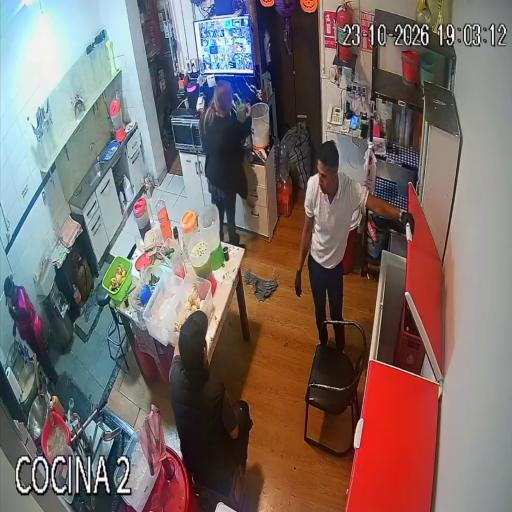Balde: (252, 102, 270, 149)
Envase Llajua: (52, 395, 64, 419)
Jarra1: (133, 197, 151, 240)
Jarra2: (181, 210, 197, 246)
Jarra3: (187, 231, 217, 294)
Jarra4: (198, 204, 223, 269)
JarraLicuadora: (236, 100, 247, 122)
Microondas: (171, 115, 204, 153)
Persona1: (170, 311, 253, 495)
Persona2: (200, 82, 253, 247)
Persona3: (294, 141, 414, 343)
Persona5: (4, 276, 58, 382)
Taper: (102, 256, 132, 301)
Taper2: (129, 264, 164, 324)
Taper3: (143, 270, 183, 346)
Taper4: (163, 274, 213, 350)
Taper5: (114, 430, 158, 512)
